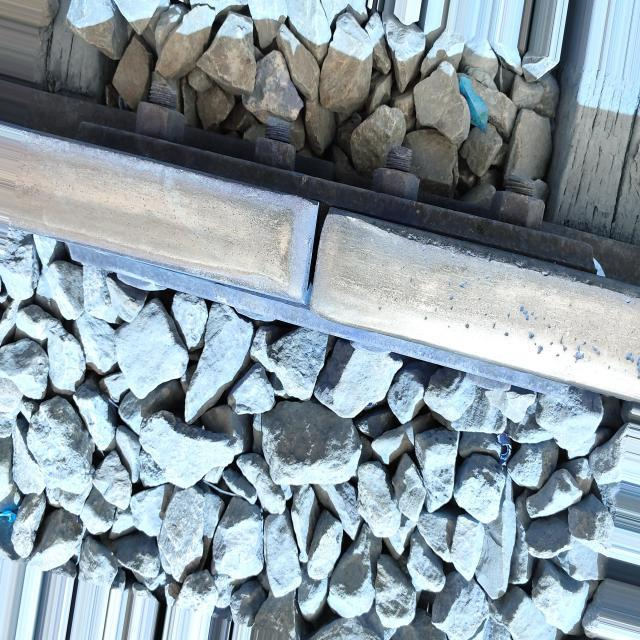Good Fasteners: (56, 71, 601, 404)
